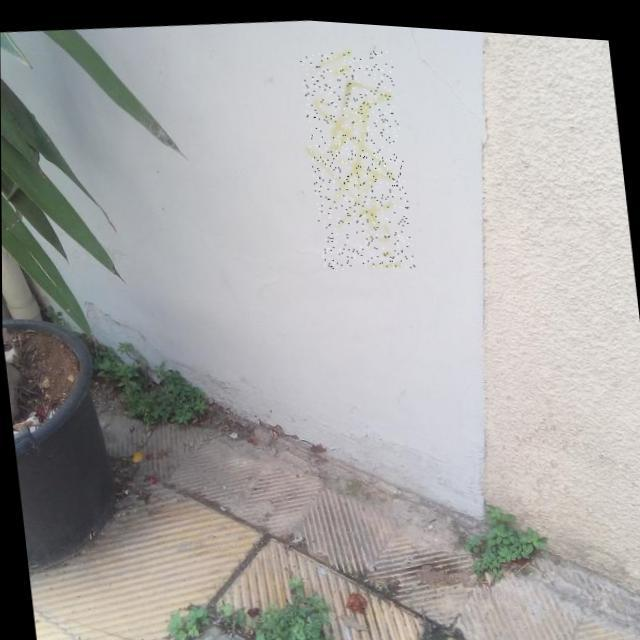-: (300, 39, 414, 270)
